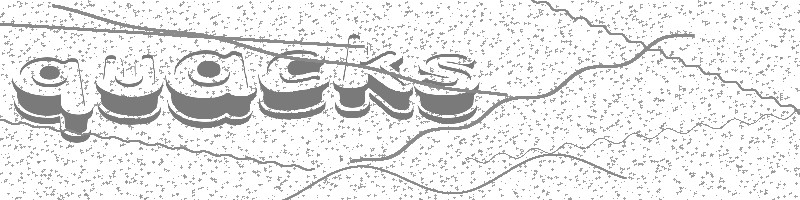a: (164, 46, 257, 127)
c: (256, 45, 328, 121)
k: (331, 30, 416, 123)
q: (7, 55, 95, 143)
s: (414, 48, 481, 125)
u: (93, 53, 164, 125)
